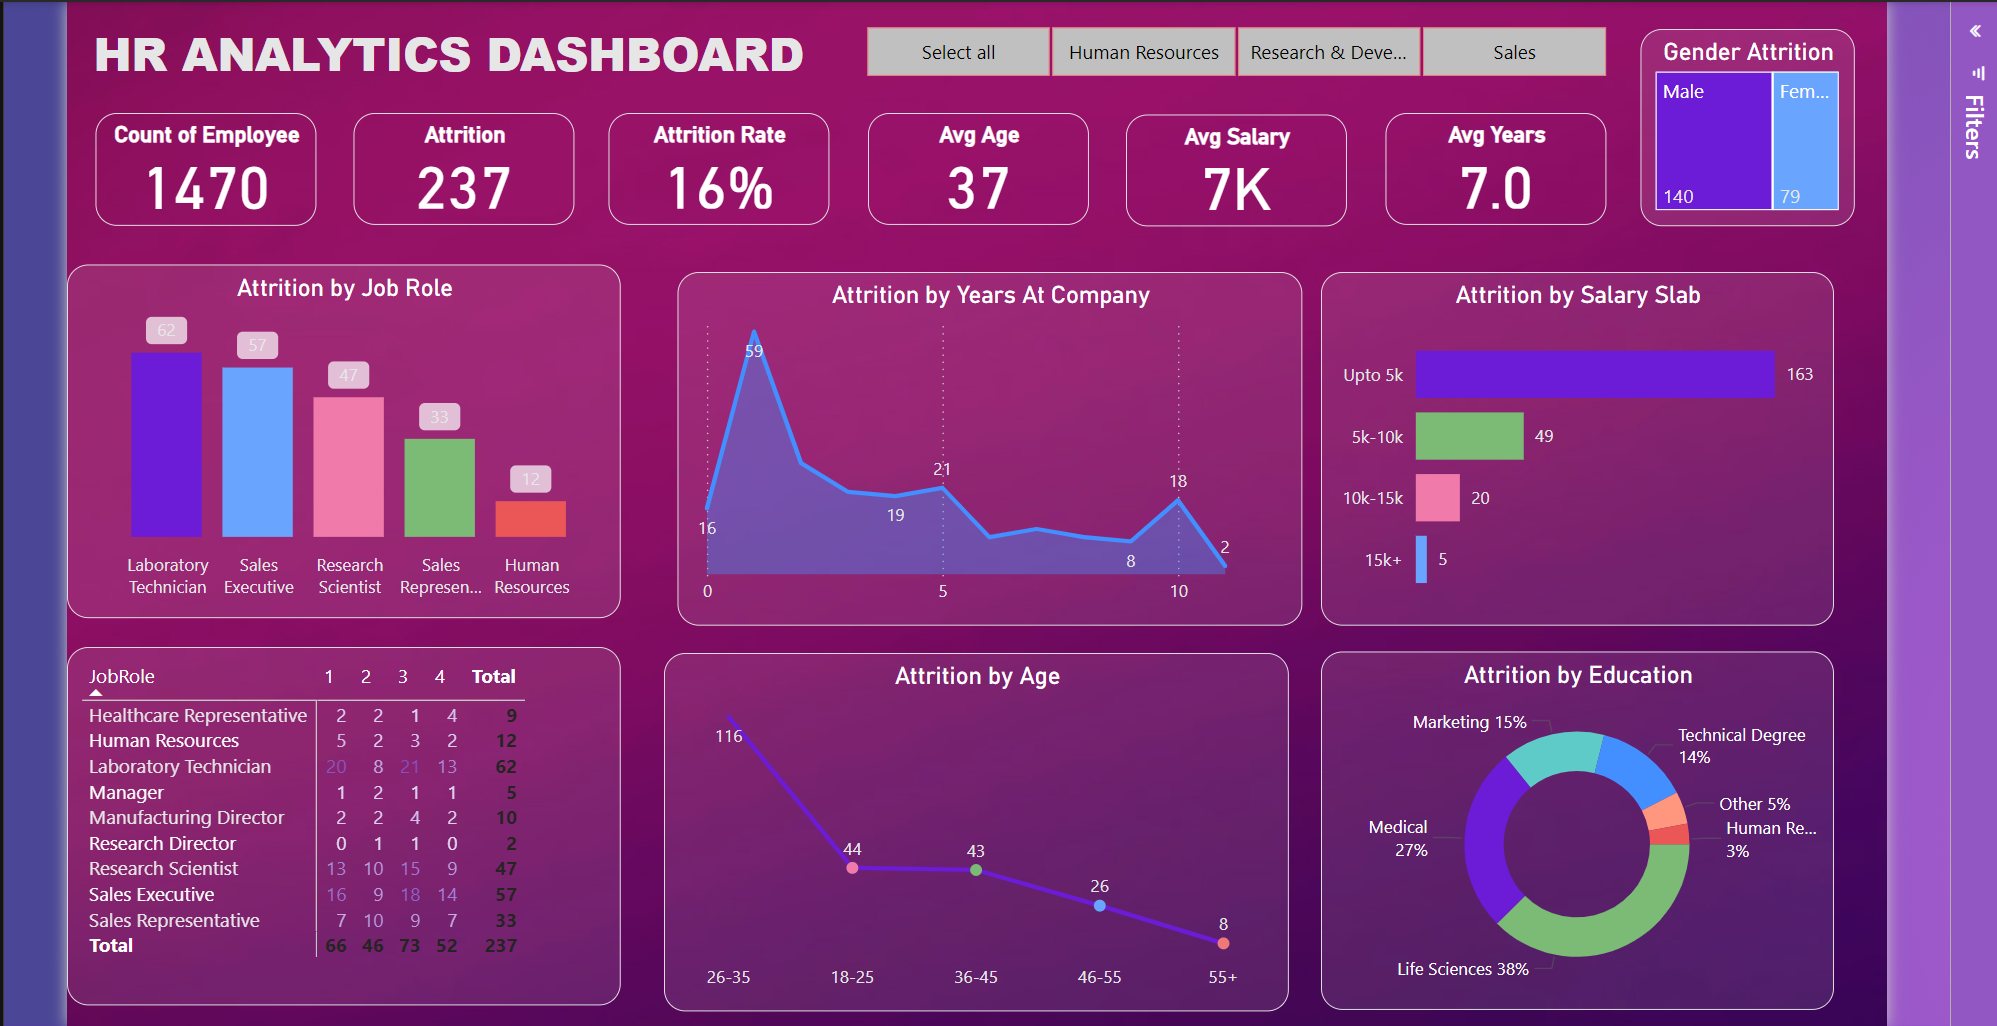

This screenshot's page, from the dashboard's own definition file:
{"tool":"powerbi","page":{"name":"Page 1","canvas":[1280,720],"ordinal":0},"visuals":[{"type":"card","title":"Count of Employee ","fields":{"Values":["CountNonNull(HR_Analytics.EmpID)"]},"box":[20.5,78.4,155.6,79.6],"z":0},{"type":"card","title":"Attrition","fields":{"Values":["Sum(HR_Analytics.AttritionCount)"]},"box":[201.4,78.4,155.6,78.4],"z":1000},{"type":"card","title":"Attrition Rate","fields":{"Values":["HR_Analytics.AttritonRate"]},"box":[381.1,78.4,155.6,78.4],"z":2000},{"type":"card","title":"Avg Age","fields":{"Values":["Avg(HR_Analytics.Age)"]},"box":[563.2,78.4,155.6,78.4],"z":3000},{"type":"card","title":"Avg Salary","fields":{"Values":["Avg(HR_Analytics.MonthlyIncome)"]},"box":[744.1,79.6,155.6,78.4],"z":4000},{"type":"card","title":"Avg Years","fields":{"Values":["Avg(HR_Analytics.YearsAtCompany)"]},"box":[927.4,78.4,155.6,78.4],"z":5000},{"type":"donutChart","title":" Attrition by Education","fields":{"Category":["HR_Analytics.EducationField"],"Y":["Sum(HR_Analytics.AttritionCount)"]},"box":[881.4,457,360.5,252.3],"z":6000},{"type":"lineChart","title":" Attrition by Age","fields":{"Category":["HR_Analytics.AgeGroup"],"Y":["Sum(HR_Analytics.AttritionCount)"]},"box":[419.8,458.1,439.5,252.3],"z":7000},{"type":"pivotTable","fields":{"Rows":["HR_Analytics.JobRole"],"Columns":["HR_Analytics.JobSatisfaction"],"Values":["Sum(HR_Analytics.AttritionCount)"]},"box":[0,453.5,389.5,252.3],"z":8000},{"type":"clusteredBarChart","title":" Attrition by Salary Slab","fields":{"Category":["HR_Analytics.SalarySlab"],"Y":["Sum(HR_Analytics.AttritionCount)"]},"box":[881.4,189.5,360.5,248.8],"z":9000},{"type":"lineStackedColumnComboChart","title":" Attrition by Job Role","fields":{"Category":["HR_Analytics.JobRole"],"Y":["Sum(HR_Analytics.AttritionCount)"]},"box":[0,184.9,389.5,248.8],"z":10000},{"type":"areaChart","title":" Attrition by Years At Company","fields":{"Category":["HR_Analytics.YearsAtCompany"],"Y":["Sum(HR_Analytics.AttritionCount)"]},"box":[429.1,189.5,439.5,248.8],"z":11000},{"type":"treemap","title":"Gender Attrition  ","fields":{"Group":["HR_Analytics.Gender"],"Values":["Sum(HR_Analytics.AttritionCount)"]},"box":[1105.9,19.3,150.8,138.7],"z":12000},{"type":"slicer","fields":{"Values":["HR_Analytics.Department"]},"box":[536.7,10.9,569.2,48.2],"z":13000},{"type":"textbox","box":[0,0,536.7,76],"z":14000}]}

Visuals, with their boxes on the page's 1280x720 design canvas (x1, y1, x2, y2). These are canvas units, not pixel positions in the 1997x1026 screenshot, which may show the page scaled, cropped or inside an application window:
"Count of Employee " card: region(20, 78, 176, 158)
"Attrition" card: region(201, 78, 357, 157)
"Attrition Rate" card: region(381, 78, 537, 157)
"Avg Age" card: region(563, 78, 719, 157)
"Avg Salary" card: region(744, 80, 900, 158)
"Avg Years" card: region(927, 78, 1083, 157)
" Attrition by Education" donutChart: region(881, 457, 1242, 709)
" Attrition by Age" lineChart: region(420, 458, 859, 710)
pivotTable - HR_Analytics.JobRole x HR_Analytics.JobSatisfaction: region(0, 454, 390, 706)
" Attrition by Salary Slab" clusteredBarChart: region(881, 190, 1242, 438)
" Attrition by Job Role" lineStackedColumnComboChart: region(0, 185, 390, 434)
" Attrition by Years At Company" areaChart: region(429, 190, 869, 438)
"Gender Attrition  " treemap: region(1106, 19, 1257, 158)
slicer - HR_Analytics.Department: region(537, 11, 1106, 59)
textbox: region(0, 0, 537, 76)
